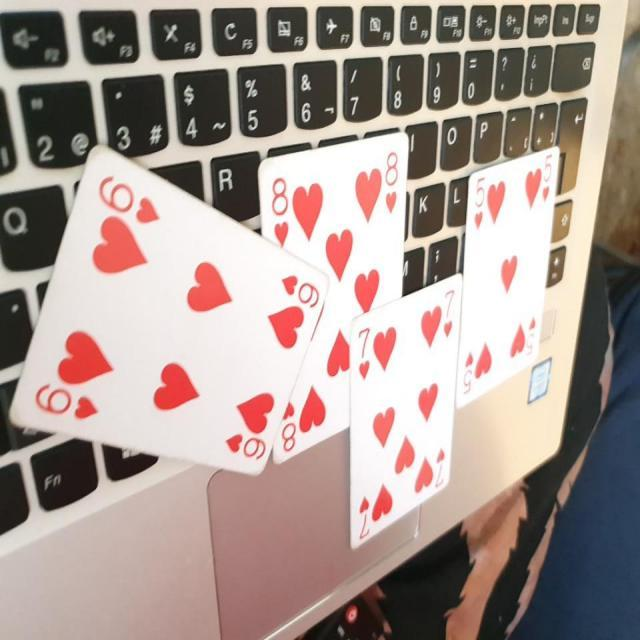5 of hearts: (457, 140, 560, 402)
6 of hearts: (13, 146, 329, 482)
7 of hearts: (350, 274, 470, 528)
8 of hearts: (252, 122, 408, 470)
